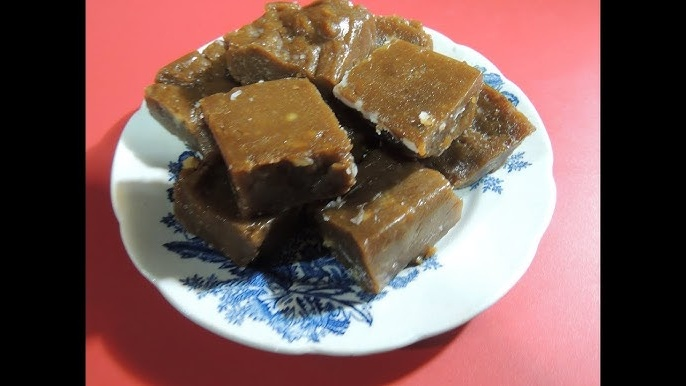dodol: (197, 75, 357, 220), (314, 151, 467, 295), (332, 37, 483, 157)
